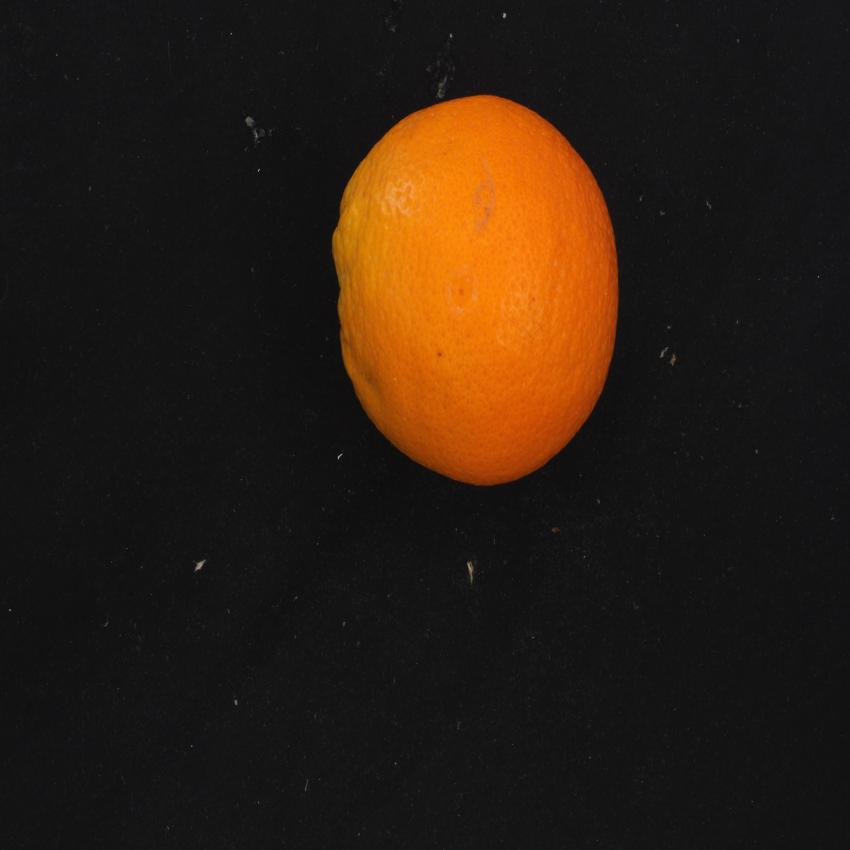Buen estado: (324, 73, 630, 510)
